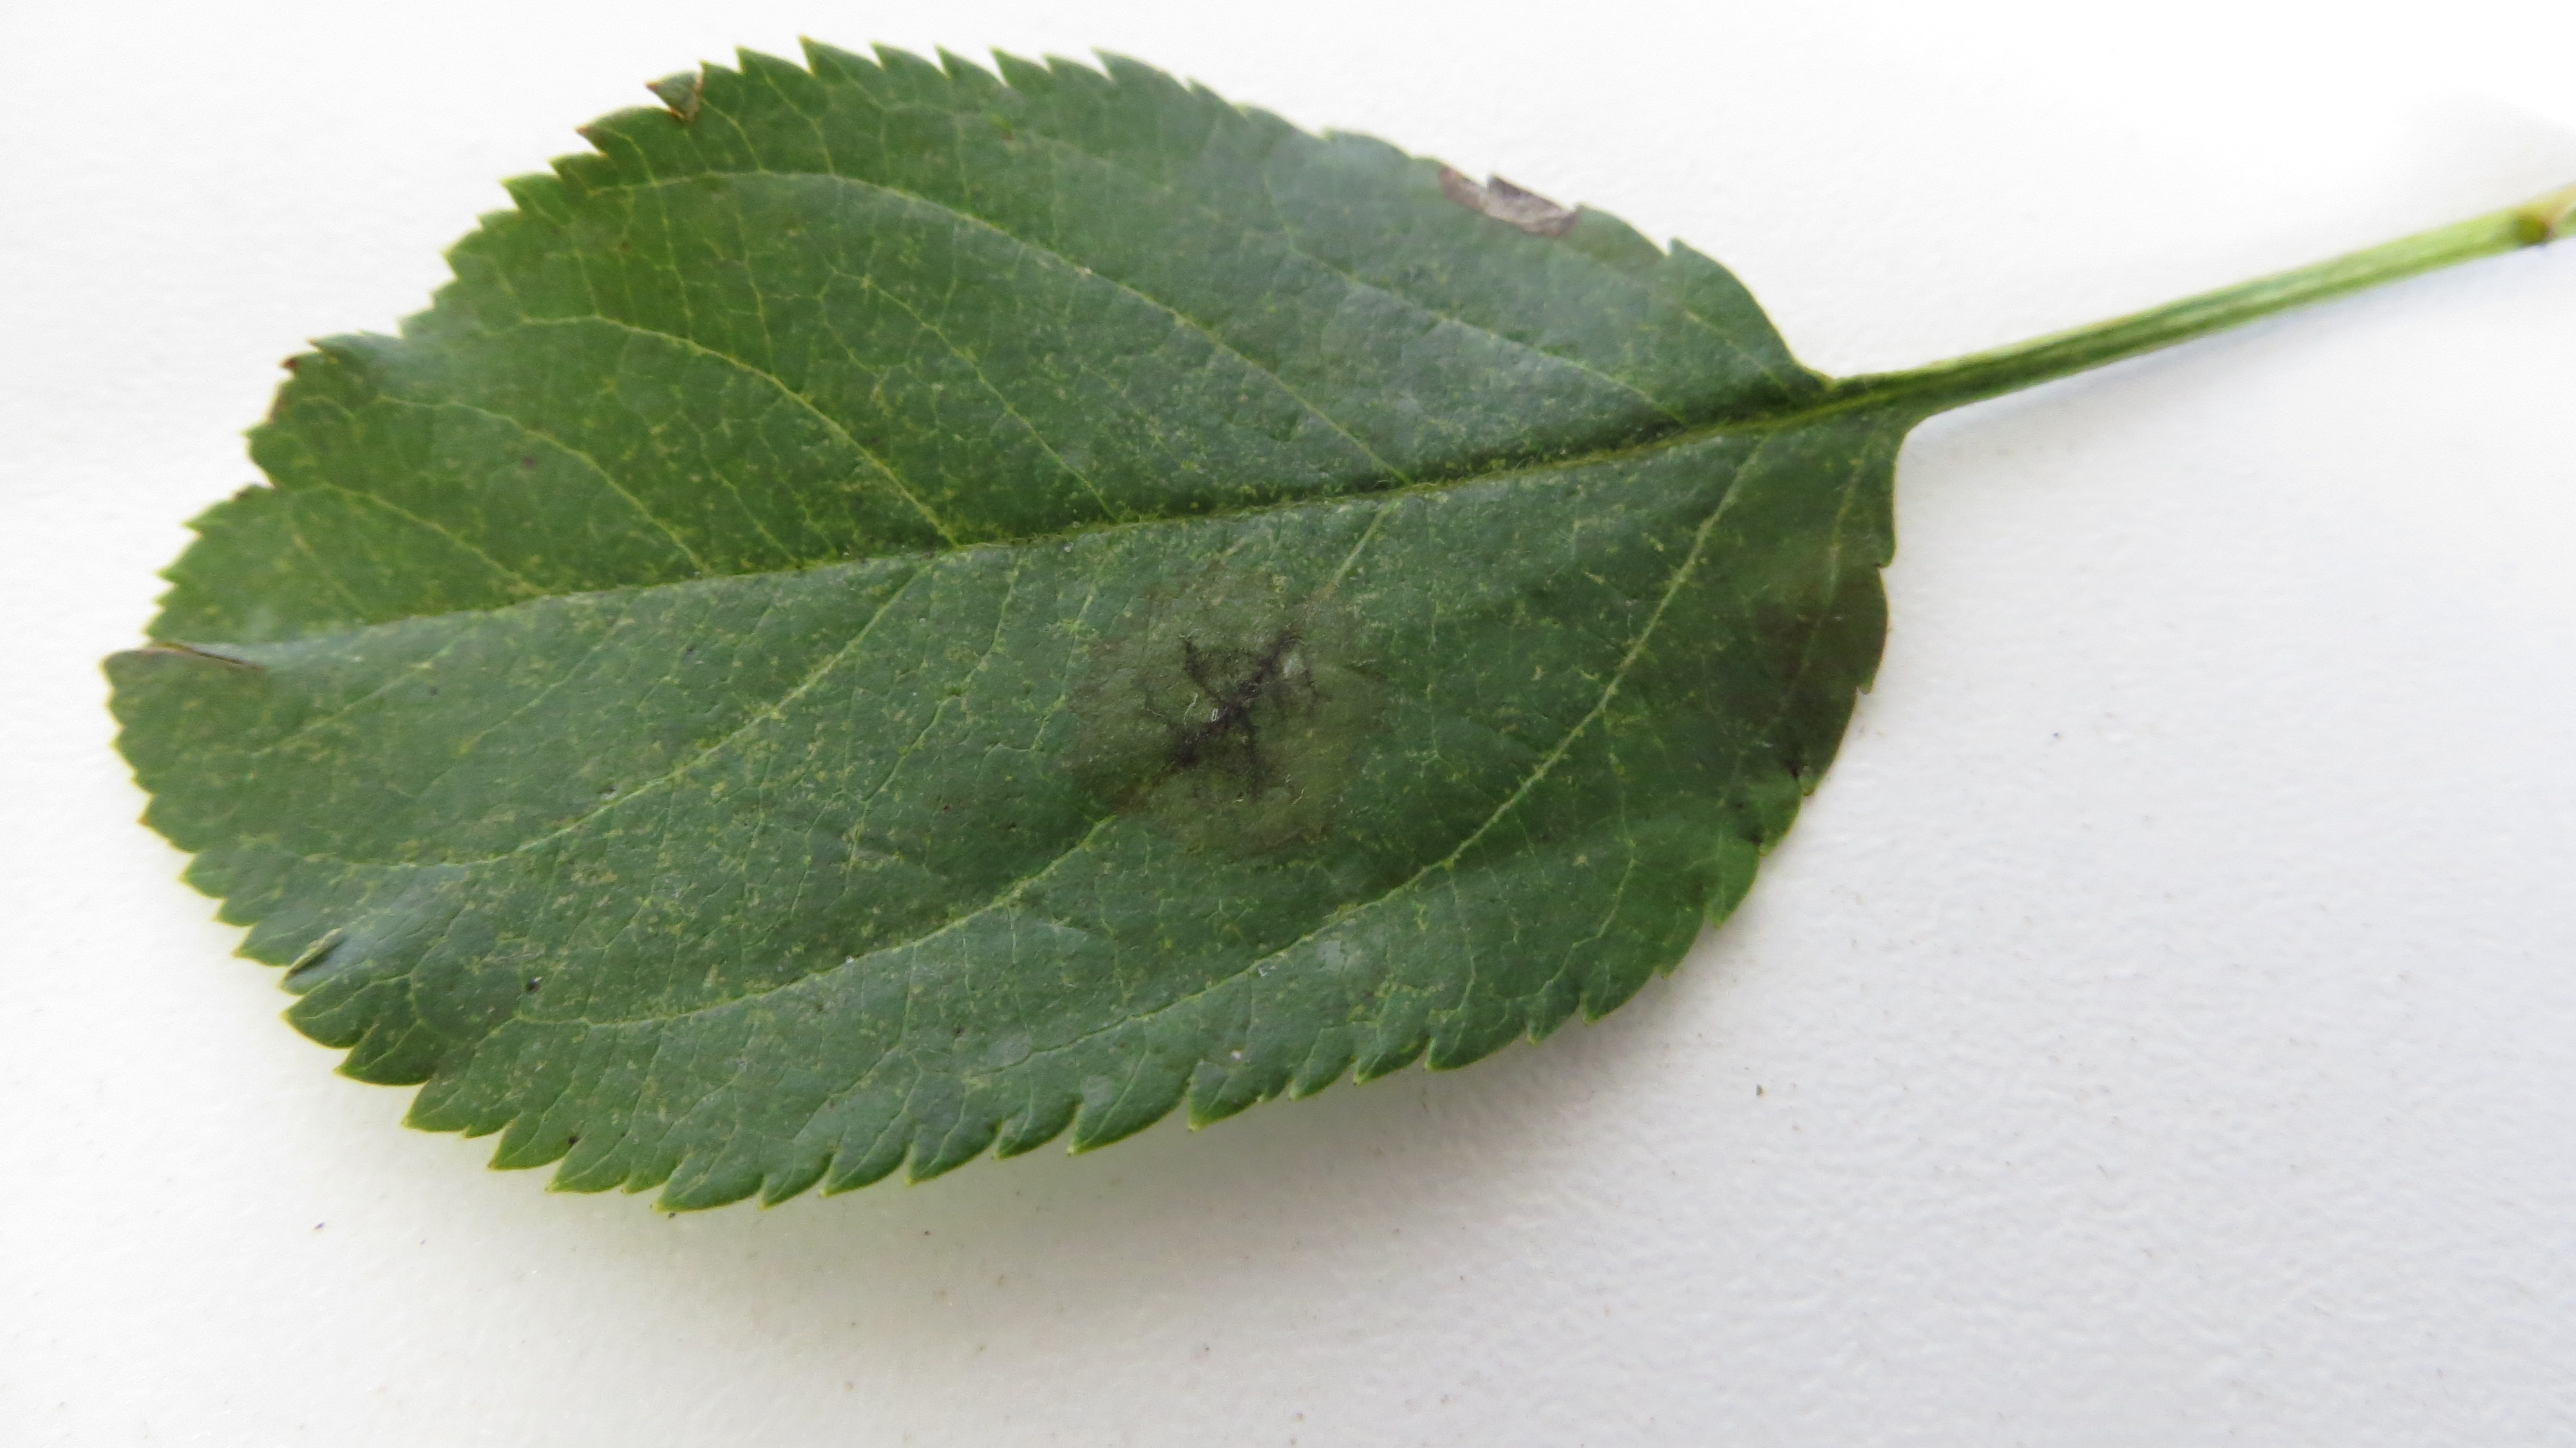sarna: (1083, 566, 1369, 848), (1681, 574, 1861, 788), (1447, 158, 1585, 244), (1709, 779, 1773, 866)
